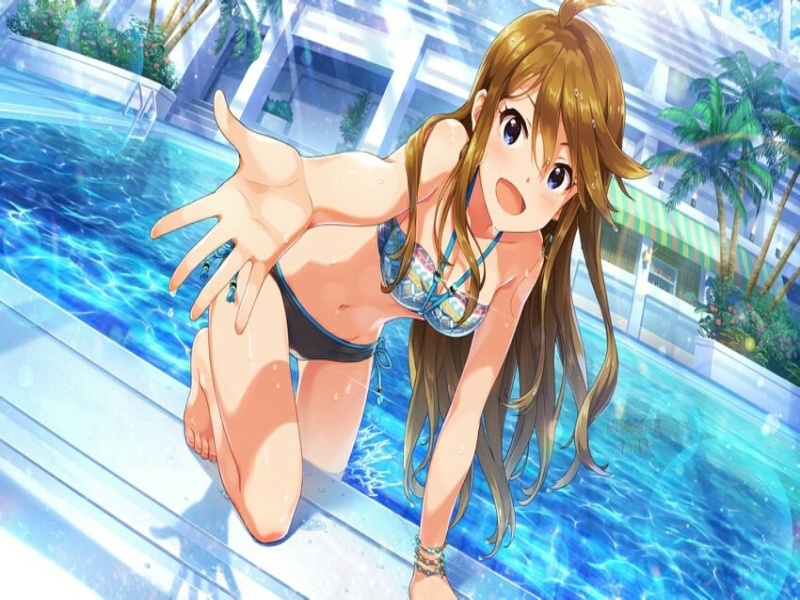person: (453, 13, 633, 251)
swimsuit: (374, 209, 496, 339)
